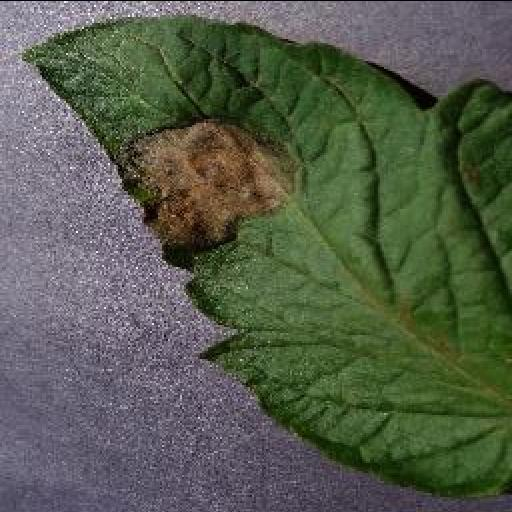disease_tomato: (14, 14, 512, 504)
